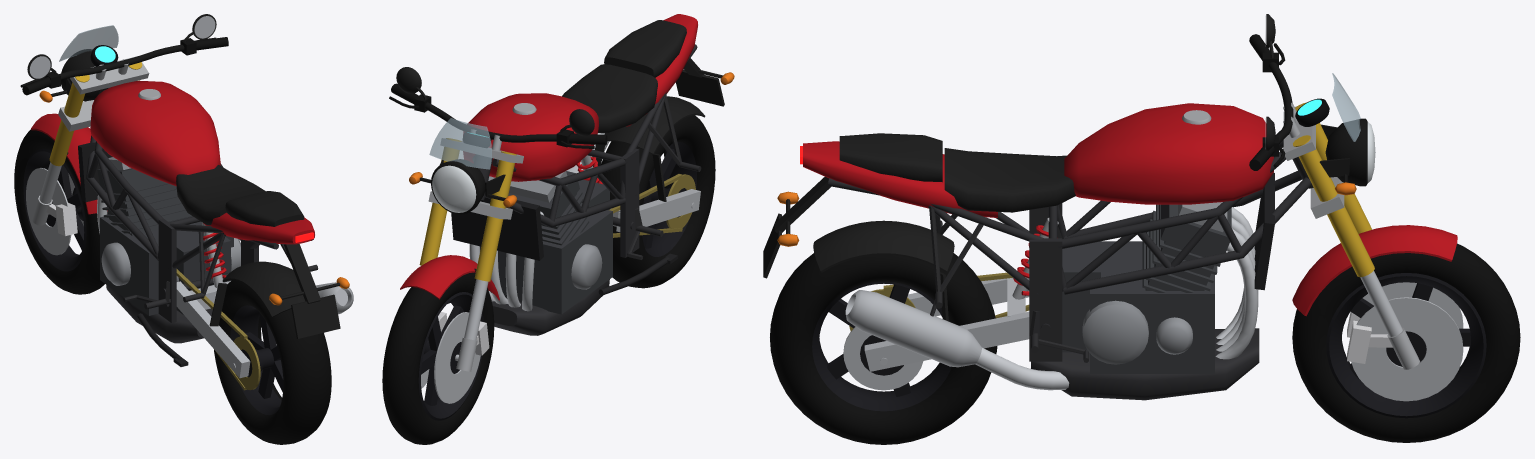
The model's file is moto-roadster-realiste.glb.
3 views of the same model, side by side, from view 1: azimuth 30°, elevation 25°; view 2: azimuth 150°, elevation 25°; view 3: azimuth 270°, elevation 25° (orthographic). The views are drawn at different scales.
Parts seen in each view (by area): view 1: moto-roadster-realiste; view 2: moto-roadster-realiste; view 3: moto-roadster-realiste.
Boxes of the visible parts, box(x1,y1,x2,y2) form: moto-roadster-realiste: box(14, 14, 353, 444); moto-roadster-realiste: box(382, 14, 734, 444); moto-roadster-realiste: box(763, 14, 1520, 444).
Size of the model in its own units: 0.8182 by 1.12 by 2.06.
